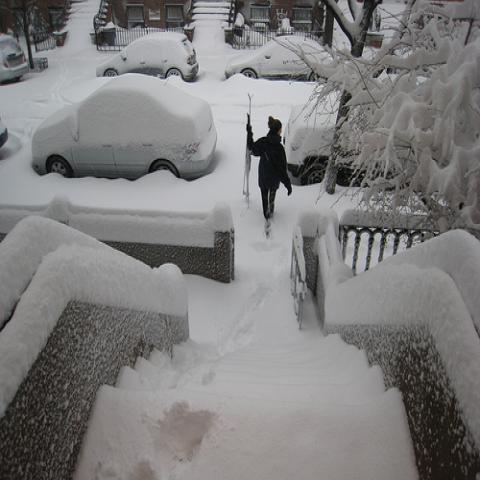car: (32, 73, 219, 181), (96, 31, 202, 81), (223, 34, 336, 80), (283, 101, 339, 186), (0, 34, 30, 86), (0, 117, 9, 150)
